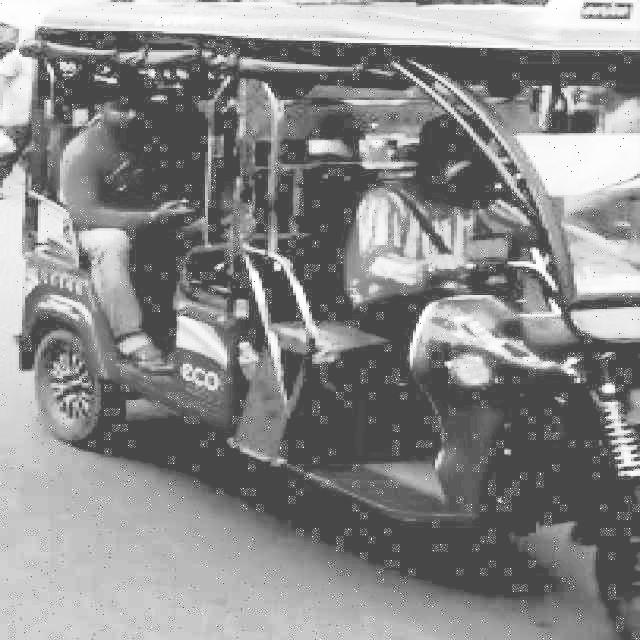Toto: (19, 0, 640, 563)
